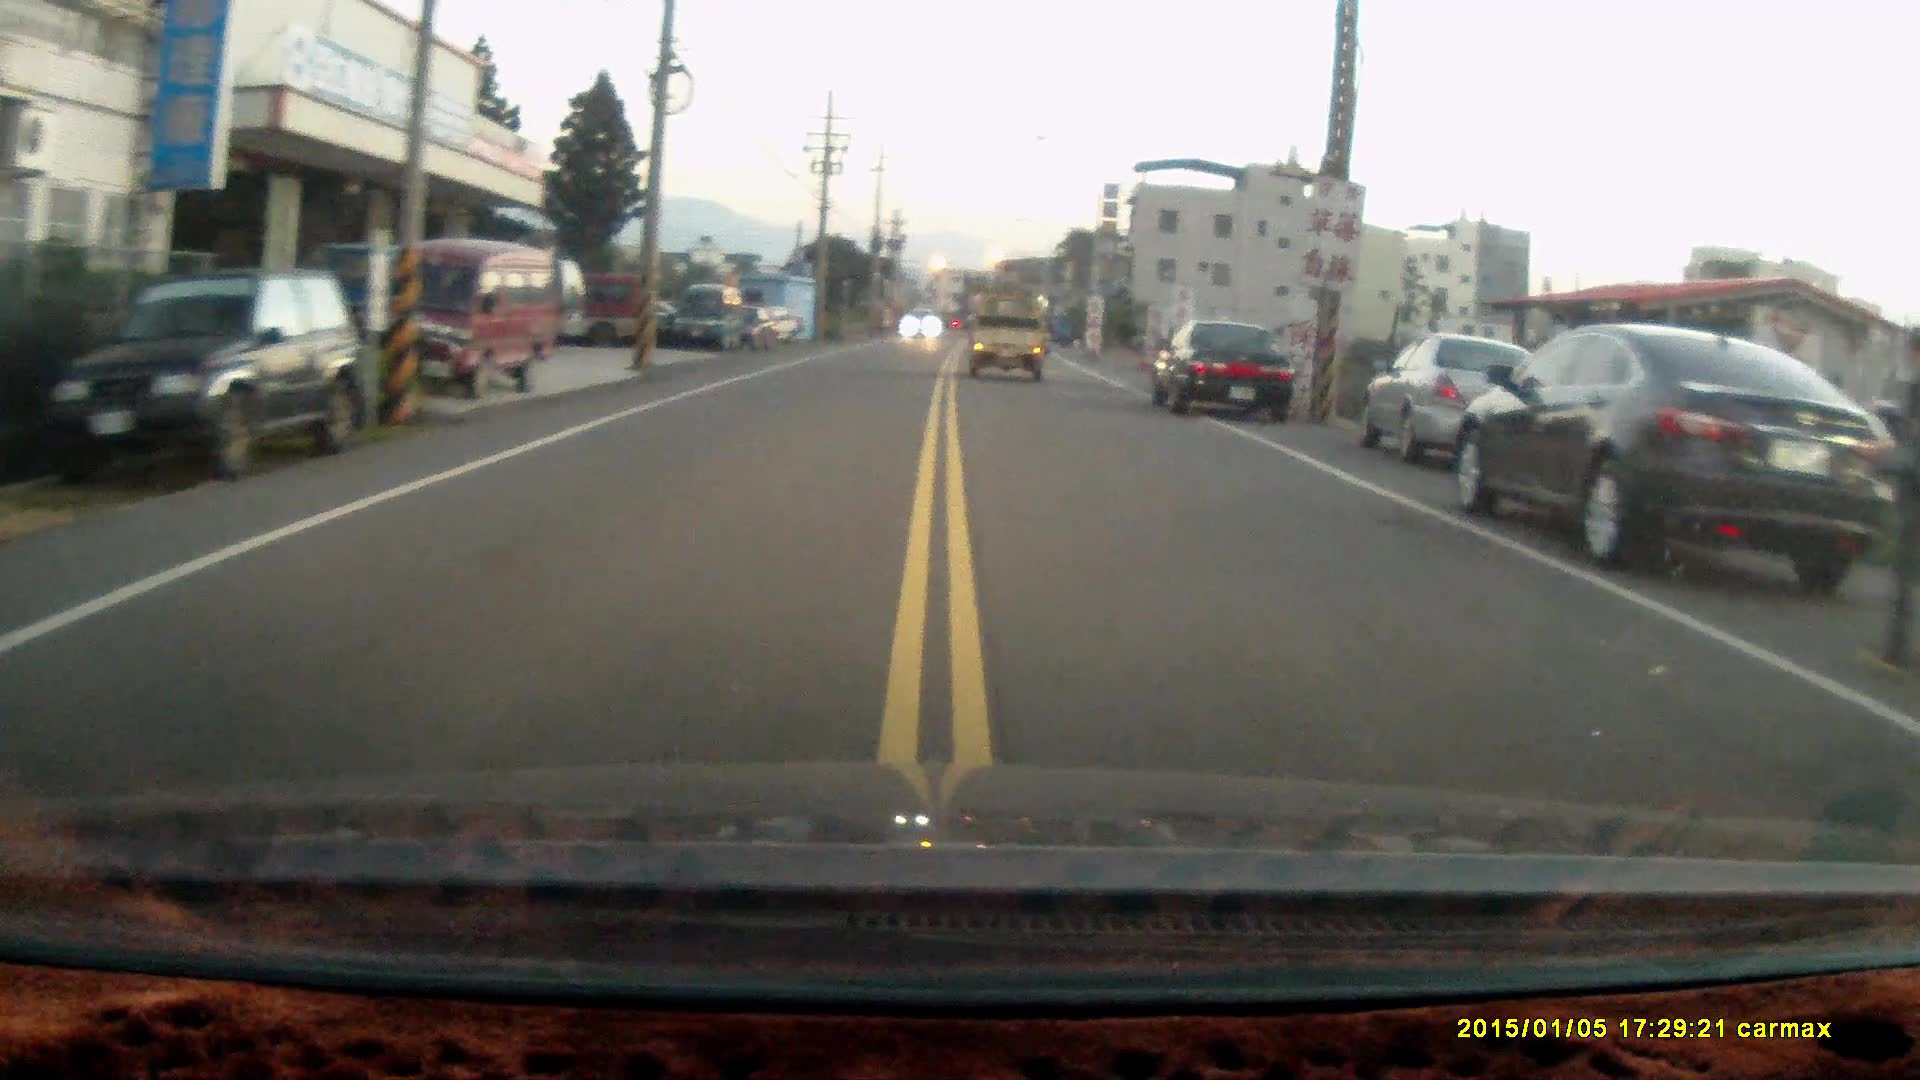vehicle: (1451, 324, 1899, 592), (51, 276, 363, 479), (343, 241, 564, 396), (1357, 328, 1547, 469), (1145, 316, 1299, 423), (971, 293, 1054, 381), (674, 282, 746, 349)
